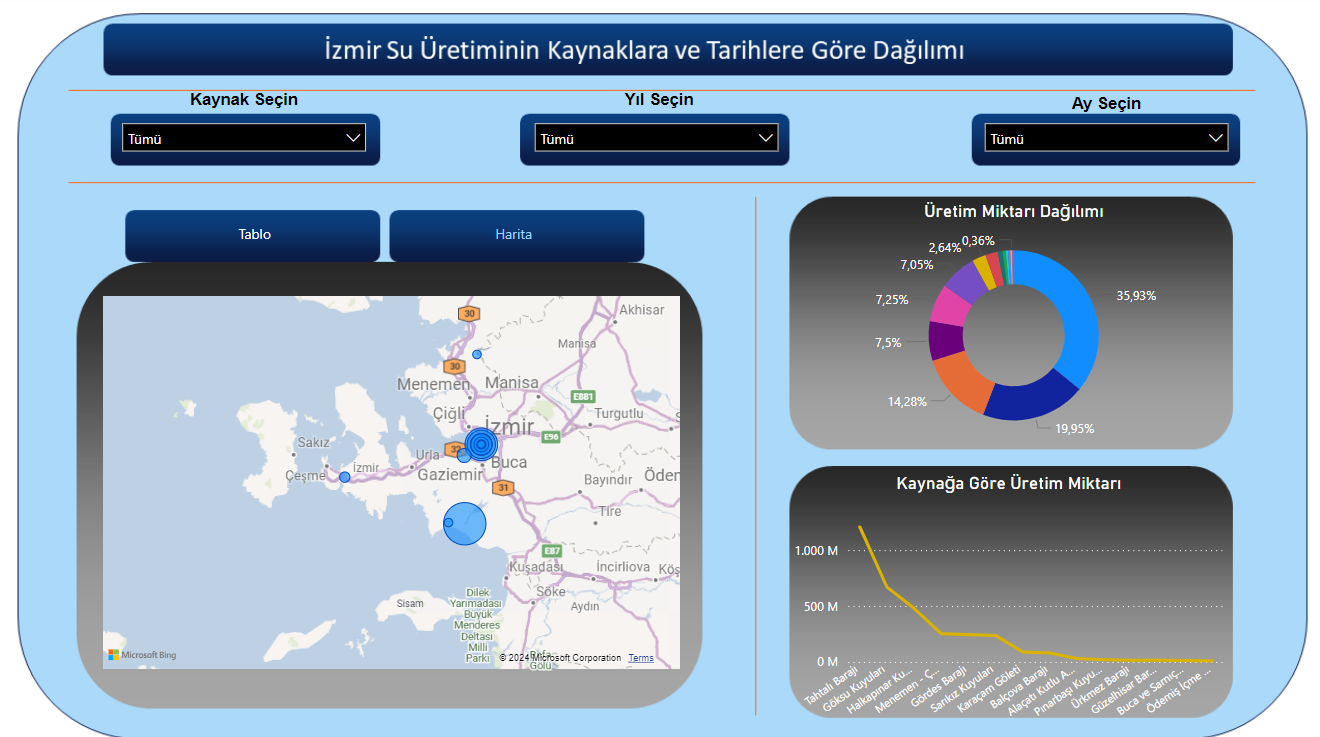

This screenshot's page, from the dashboard's own definition file:
{"tool":"powerbi","page":{"name":"1. sayfa","canvas":[1280,720],"ordinal":0},"visuals":[{"type":"slicer","fields":{"Values":["İzmir.URETIM_KAYNAGI"]},"box":[108.5,113.4,255.7,43.4],"z":0},{"type":"slicer","fields":{"Values":["İzmir.YIL"]},"box":[506.5,113.4,255.7,43.4],"z":1000},{"type":"slicer","fields":{"Values":["İzmir.Ay"]},"box":[940.7,113.4,255.7,43.4],"z":2000},{"type":"donutChart","title":"Üretim Miktarı Dağılımı","fields":{"Y":["Sum(İzmir.URETIM_MIKTARI)"],"Category":["İzmir.URETIM_KAYNAGI"]},"box":[762.2,197.8,434.2,242.4],"z":3000},{"type":"lineChart","title":"Kaynağa Göre Üretim Miktarı","fields":{"Category":["İzmir.URETIM_KAYNAGI"],"Y":["Sum(İzmir.URETIM_MIKTARI)"]},"box":[762.2,459.5,424.5,247.2],"z":4000},{"type":"tableEx","fields":{"Values":["İzmir.URETIM_KAYNAGI","İzmir.YIL","İzmir.Ay","Sum(İzmir.URETIM_MIKTARI)"]},"box":[100.2,279.7,555.1,267.1],"z":6000},{"type":"card","title":"Toplam Üretim Miktarı","fields":{"Values":["Sum(İzmir.URETIM_MIKTARI)"]},"box":[160,546.8,434.1,135],"z":7000},{"type":"bookmarkNavigator","box":[126.4,211.3,491.8,39.8],"z":8000},{"type":"textbox","box":[166.4,86.8,139.9,36.2],"z":8001},{"type":"textbox","box":[551.2,86.8,171.3,35],"z":8002},{"type":"textbox","box":[974.5,90.5,188.1,36.2],"z":8003}]}

Visuals, with their boxes in screenshot pixels (x1, y1, x2, y2), scaled from the page's 1280x720 canvas onto the 1320x737 screenshot:
slicer - İzmir.URETIM_KAYNAGI: <box>112,116,376,161</box>
slicer - İzmir.YIL: <box>522,116,786,161</box>
slicer - İzmir.Ay: <box>970,116,1234,161</box>
"Üretim Miktarı Dağılımı" donutChart: <box>786,202,1234,451</box>
"Kaynağa Göre Üretim Miktarı" lineChart: <box>786,470,1224,723</box>
tableEx - İzmir.URETIM_KAYNAGI x İzmir.YIL: <box>103,286,676,560</box>
"Toplam Üretim Miktarı" card: <box>165,560,613,698</box>
bookmarkNavigator: <box>130,216,638,257</box>
textbox: <box>172,89,316,126</box>
textbox: <box>568,89,745,125</box>
textbox: <box>1005,93,1199,130</box>
